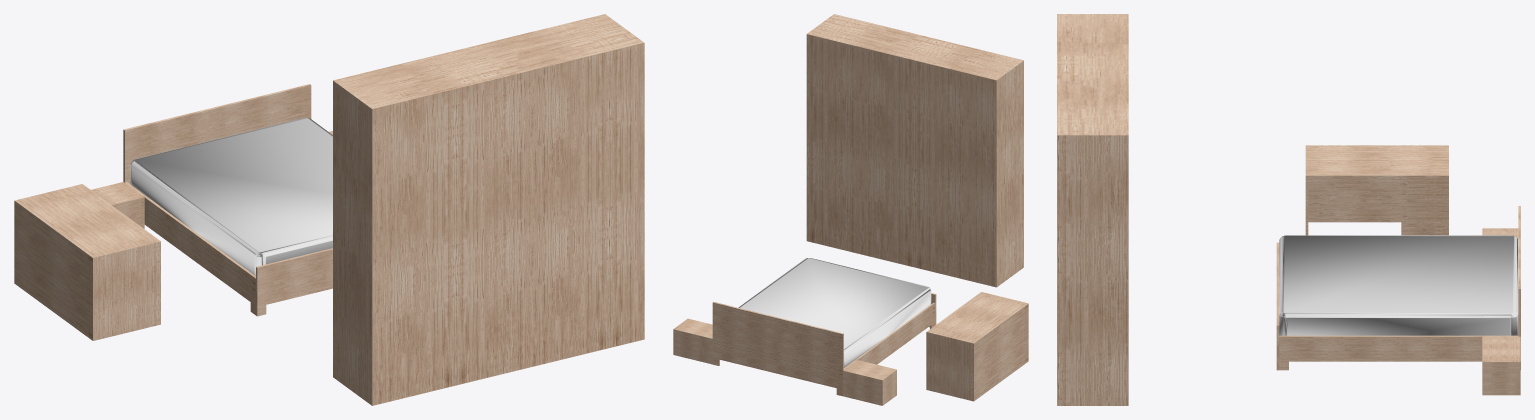
The model's file is bigBedRoom.glb.
3 views of the same model, side by side, from view 1: azimuth 30°, elevation 25°; view 2: azimuth 150°, elevation 25°; view 3: azimuth 270°, elevation 25° (orthographic). The views are drawn at different scales.
Parts seen in each view (by area): view 1: Body4.001, Body5, Body7, Body1, Body2, Body4, Body6; view 2: Body4.001, Body5, Body7, Body1, Body6, Body2, Body5.001; view 3: Body4.001, Body5, Body7, Body3, Body5.001, Body4, Body1.
Boxes of the visible parts, x1=… form: Body4.001: x1=333, y1=14, x2=644, y2=405; Body5: x1=130, y1=118, x2=332, y2=275; Body7: x1=14, y1=184, x2=160, y2=340; Body1: x1=123, y1=84, x2=311, y2=184; Body2: x1=125, y1=182, x2=255, y2=315; Body4: x1=256, y1=248, x2=332, y2=316; Body6: x1=91, y1=182, x2=144, y2=228; Body4.001: x1=806, y1=14, x2=1023, y2=287; Body5: x1=738, y1=258, x2=931, y2=367; Body7: x1=926, y1=292, x2=1028, y2=401; Body1: x1=712, y1=302, x2=843, y2=396; Body6: x1=843, y1=360, x2=896, y2=405; Body2: x1=844, y1=302, x2=935, y2=369; Body5.001: x1=673, y1=318, x2=712, y2=364; Body4.001: x1=1057, y1=14, x2=1128, y2=405; Body5: x1=1279, y1=235, x2=1518, y2=335; Body7: x1=1305, y1=145, x2=1448, y2=235; Body3: x1=1279, y1=335, x2=1518, y2=370; Body5.001: x1=1482, y1=336, x2=1520, y2=395; Body4: x1=1276, y1=242, x2=1279, y2=370; Body1: x1=1518, y1=206, x2=1520, y2=369.
Bounding box in the file's own units: 3.66 × 2.5 × 3.88.
Materials: 2 (1 with a texture image).
